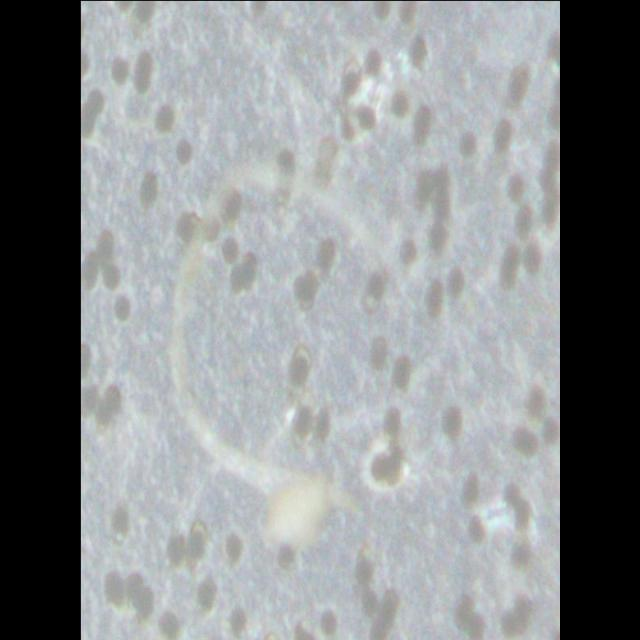Fibre: (168, 152, 428, 558)
